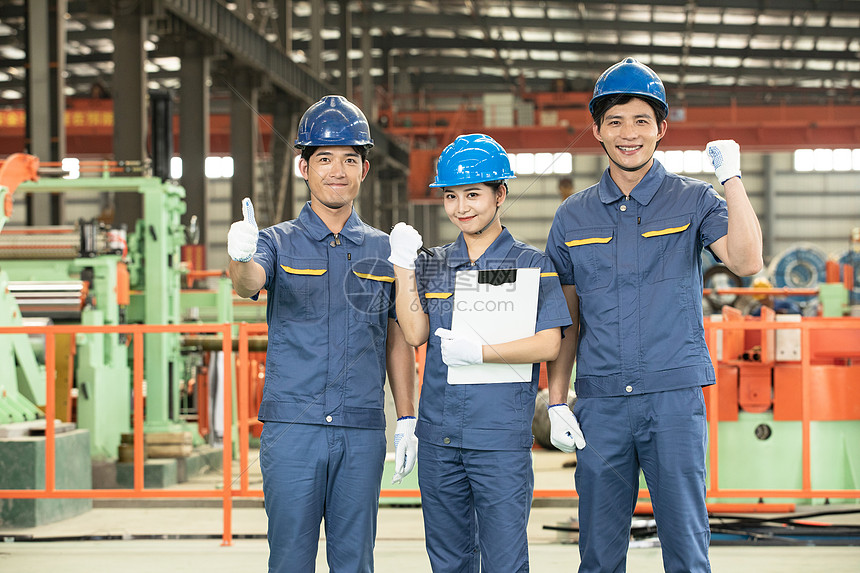safetyhat: (546, 51, 765, 535), (230, 77, 414, 567), (413, 113, 555, 536)
